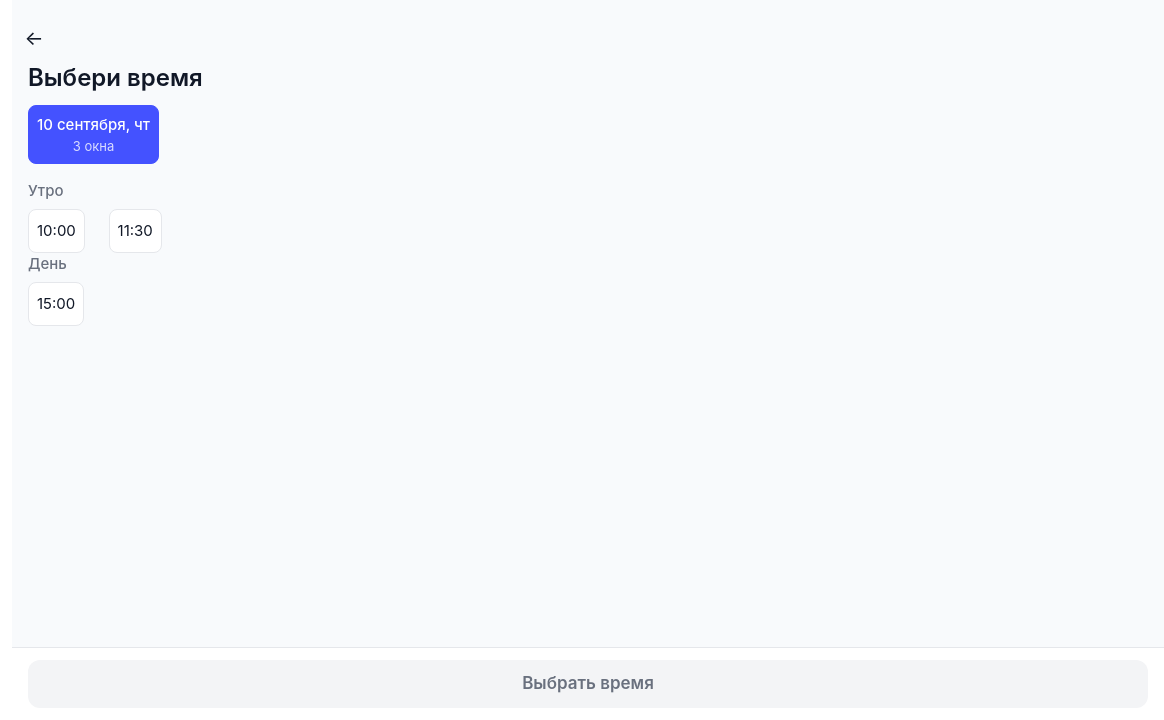
Test case: без сигнала персонализации экран ничего не обещает › положительная стража: время на месте, выбирается, CTA оживает
Expected: the heading "День" is shown, x1=28 y1=254 x2=67 y2=273
Expected: the text "3 окна" is shown, x1=73 y1=137 x2=114 y2=155
Click the button named "в 15:00" at (56, 304), box x1=28 y1=282 x2=84 y2=326
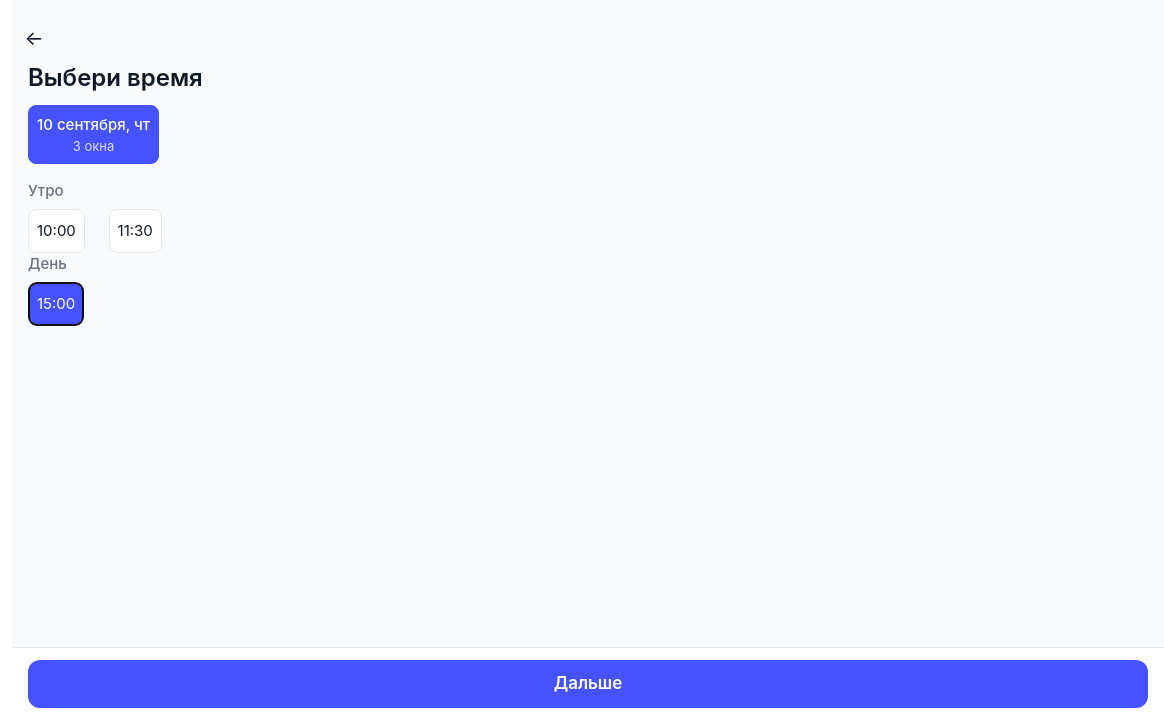
Expected: the button "Дальше" is enabled, x1=28 y1=660 x2=1148 y2=708
